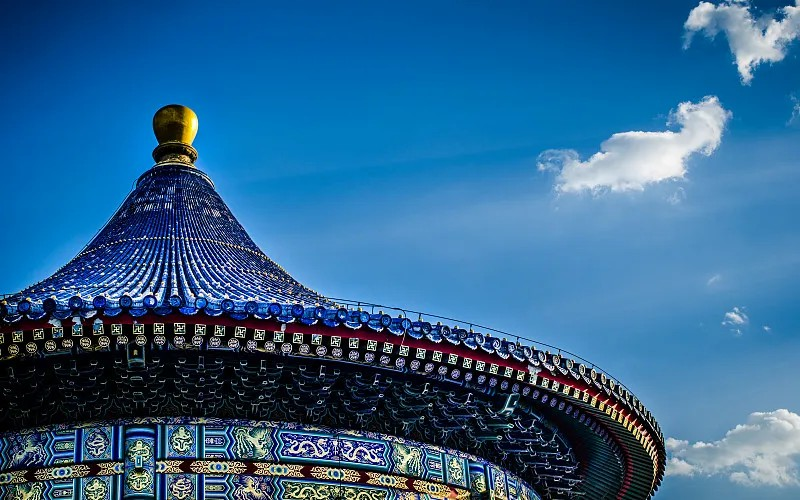Heaven: (1, 102, 667, 500)
